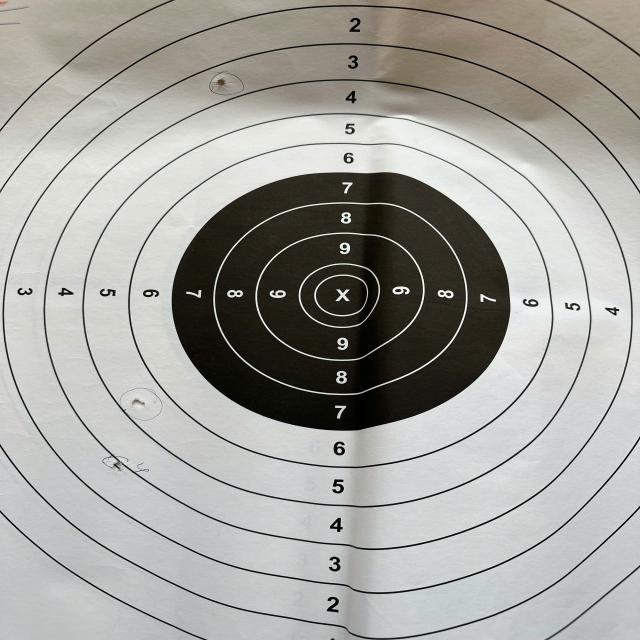bullet: (132, 396, 144, 408), (112, 460, 124, 472), (216, 76, 227, 88)
target: (0, 0, 640, 640)
